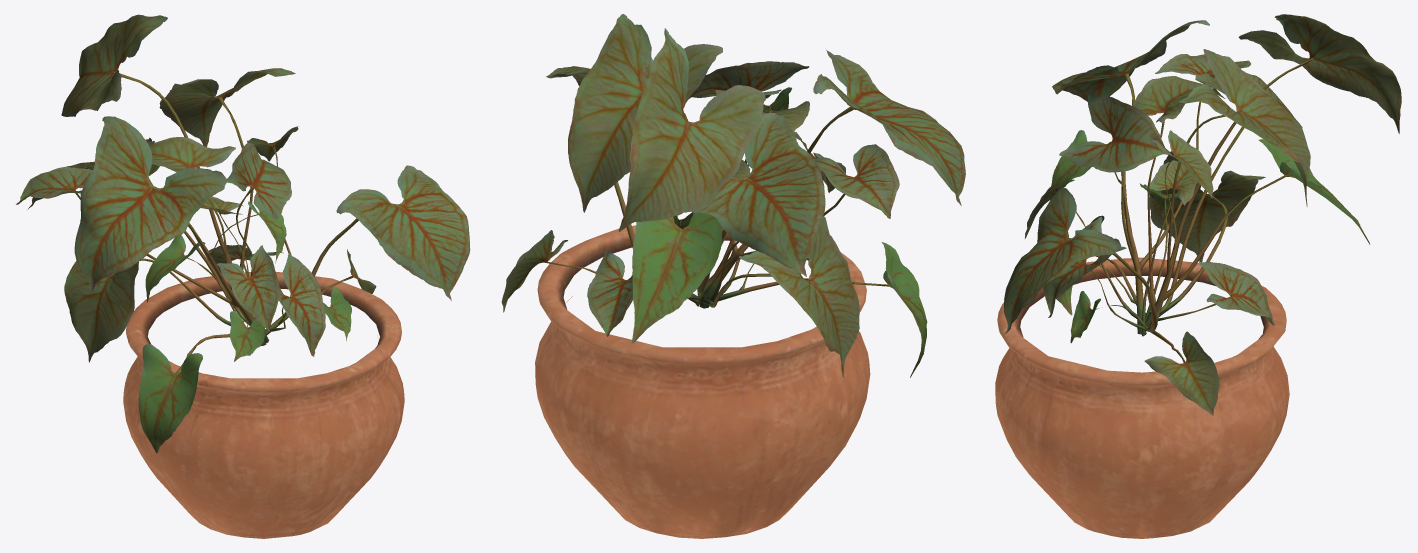
Rendered from fixtures-plant.glb.
3 renders of one model, left to right at view 1: azimuth 30°, elevation 25°; view 2: azimuth 150°, elevation 25°; view 3: azimuth 270°, elevation 25°, orthographic. The views are drawn at different scales.
Parts seen in each view (by area): view 1: leaves, pot; view 2: leaves, pot; view 3: leaves, pot.
Boxes of the visible parts, x1,y1,x2,y2 form: leaves: (16,14,470,452); pot: (123,272,404,538); leaves: (501,14,965,377); pot: (535,219,870,538); leaves: (1004,14,1401,415); pot: (995,257,1289,538).
Bounding box in the file's own units: 0.7012 × 0.8412 × 0.6561.
2 materials, 2 textured.
